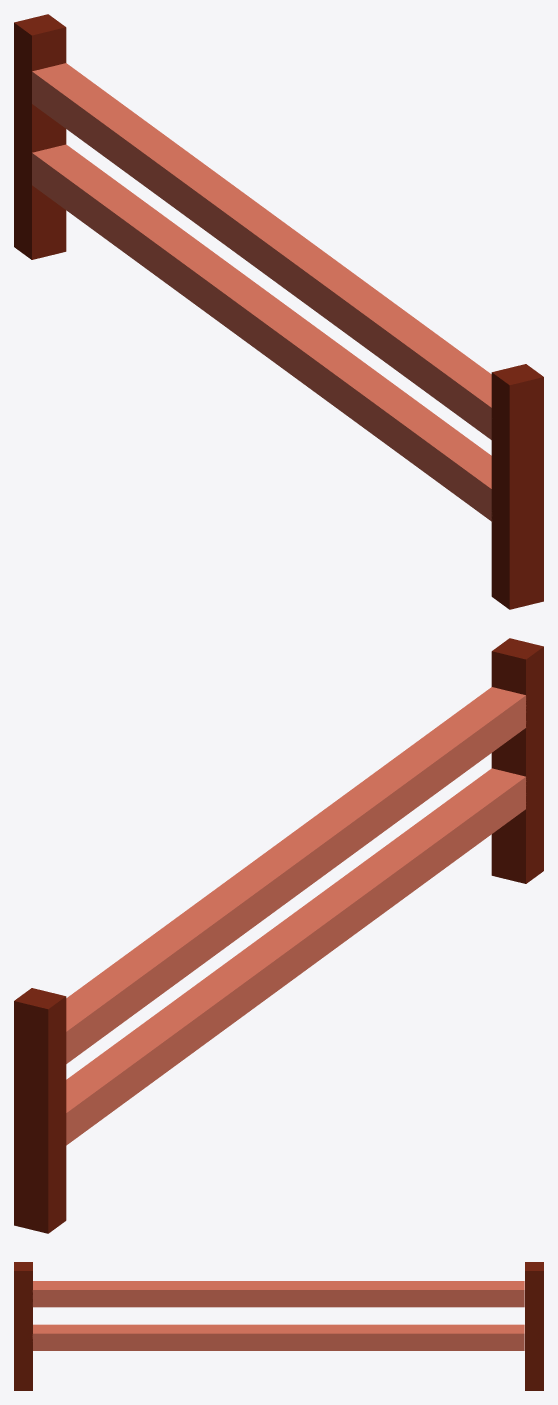
The model's file is fence.fbx.
3 views of the same model, one above another, from view 1: azimuth 30°, elevation 25°; view 2: azimuth 150°, elevation 25°; view 3: azimuth 270°, elevation 25° (orthographic). The views are drawn at different scales.
Parts seen in each view (by area): view 1: Cube.001, Cube.003, Cube, Cube.002; view 2: Cube.003, Cube.001, Cube.002, Cube; view 3: Cube.001, Cube.003, Cube, Cube.002.
Part boxes in pixels (x1=…): Cube.001: x1=32, y1=144, x2=492, y2=521; Cube.003: x1=32, y1=63, x2=491, y2=439; Cube: x1=491, y1=364, x2=543, y2=609; Cube.002: x1=14, y1=14, x2=66, y2=259; Cube.003: x1=66, y1=687, x2=526, y2=1063; Cube.001: x1=66, y1=768, x2=526, y2=1145; Cube.002: x1=14, y1=988, x2=66, y2=1233; Cube: x1=491, y1=638, x2=543, y2=883; Cube.001: x1=32, y1=1324, x2=524, y2=1350; Cube.003: x1=32, y1=1281, x2=524, y2=1307; Cube: x1=14, y1=1262, x2=32, y2=1390; Cube.002: x1=525, y1=1262, x2=543, y2=1390.
Size of the model in its own units: 66.54 by 416 by 1665.
